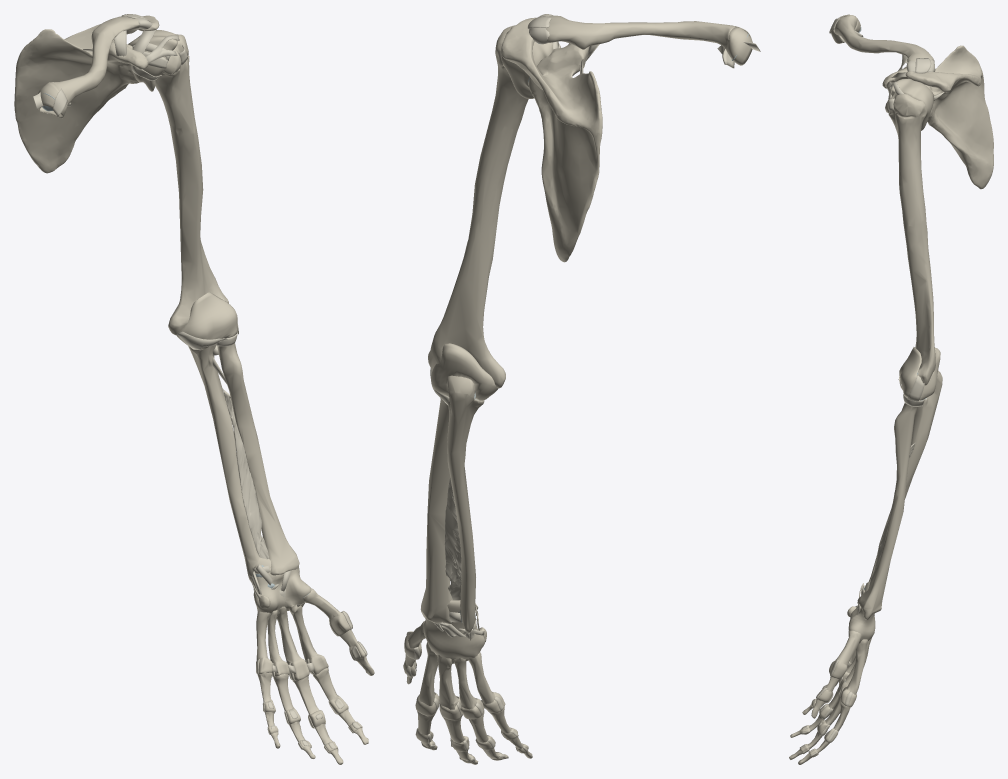
Rendered from detail-skeletal-left-upper-limb.glb.
The picture shows the model from 3 angles, left to right: view 1: azimuth 30°, elevation 25°; view 2: azimuth 150°, elevation 25°; view 3: azimuth 270°, elevation 25°; orthographic projection. The views are drawn at different scales.
Visible parts, largest first — view 1: za-82c423a2d9629a59, za-392caa1c00b14e39, za-5e0d97935f00d1db, za-c187da6b8beb3b63, za-7e513ab46e08f282, za-20b7522d0045f2ae, za-706e50e8b9adcf04, za-b39ad4ae0d41155e, za-698af4cc10064352, za-81f96b5ef0b699d6, za-dd7c3d15646d92bd, za-1557e03b4112dd70; view 2: za-82c423a2d9629a59, za-392caa1c00b14e39, za-c187da6b8beb3b63, za-5e0d97935f00d1db, za-7e513ab46e08f282, za-20b7522d0045f2ae, za-b39ad4ae0d41155e, za-706e50e8b9adcf04, za-698af4cc10064352, za-81f96b5ef0b699d6, za-dd7c3d15646d92bd, za-0e2b0016acc987e5 (+3 smaller); view 3: za-392caa1c00b14e39, za-82c423a2d9629a59, za-5e0d97935f00d1db, za-7e513ab46e08f282, za-c187da6b8beb3b63, za-20b7522d0045f2ae, za-81f96b5ef0b699d6, za-b39ad4ae0d41155e, za-1557e03b4112dd70, za-698af4cc10064352, za-9df38dd0067f8e42.
Part boxes in pixels (x1,y1,x2,y2): za-82c423a2d9629a59: [14, 15, 159, 173]; za-392caa1c00b14e39: [155, 34, 228, 335]; za-5e0d97935f00d1db: [217, 343, 299, 575]; za-c187da6b8beb3b63: [188, 344, 263, 582]; za-7e513ab46e08f282: [42, 16, 139, 111]; za-20b7522d0045f2ae: [176, 292, 237, 349]; za-706e50e8b9adcf04: [223, 389, 269, 559]; za-b39ad4ae0d41155e: [253, 557, 311, 616]; za-698af4cc10064352: [258, 611, 350, 680]; za-81f96b5ef0b699d6: [128, 30, 177, 91]; za-dd7c3d15646d92bd: [276, 606, 301, 663]; za-1557e03b4112dd70: [289, 604, 318, 660]; za-82c423a2d9629a59: [501, 17, 602, 262]; za-392caa1c00b14e39: [428, 25, 528, 392]; za-c187da6b8beb3b63: [447, 375, 484, 632]; za-5e0d97935f00d1db: [420, 398, 452, 623]; za-7e513ab46e08f282: [545, 15, 735, 49]; za-20b7522d0045f2ae: [431, 343, 497, 400]; za-b39ad4ae0d41155e: [423, 600, 484, 663]; za-706e50e8b9adcf04: [444, 467, 461, 600]; za-698af4cc10064352: [404, 632, 505, 720]; za-81f96b5ef0b699d6: [501, 31, 553, 98]; za-dd7c3d15646d92bd: [437, 654, 458, 709]; za-0e2b0016acc987e5: [725, 27, 752, 65]; za-392caa1c00b14e39: [885, 91, 935, 385]; za-82c423a2d9629a59: [882, 45, 993, 189]; za-5e0d97935f00d1db: [857, 399, 923, 619]; za-7e513ab46e08f282: [834, 15, 934, 62]; za-c187da6b8beb3b63: [864, 370, 942, 589]; za-20b7522d0045f2ae: [899, 347, 940, 400]; za-81f96b5ef0b699d6: [890, 78, 934, 130]; za-b39ad4ae0d41155e: [848, 582, 875, 643]; za-1557e03b4112dd70: [846, 639, 867, 694]; za-698af4cc10064352: [829, 660, 856, 707]; za-9df38dd0067f8e42: [836, 630, 861, 665].
Bounding box in the file's own units: 0.3346 × 0.7265 × 0.2098.
